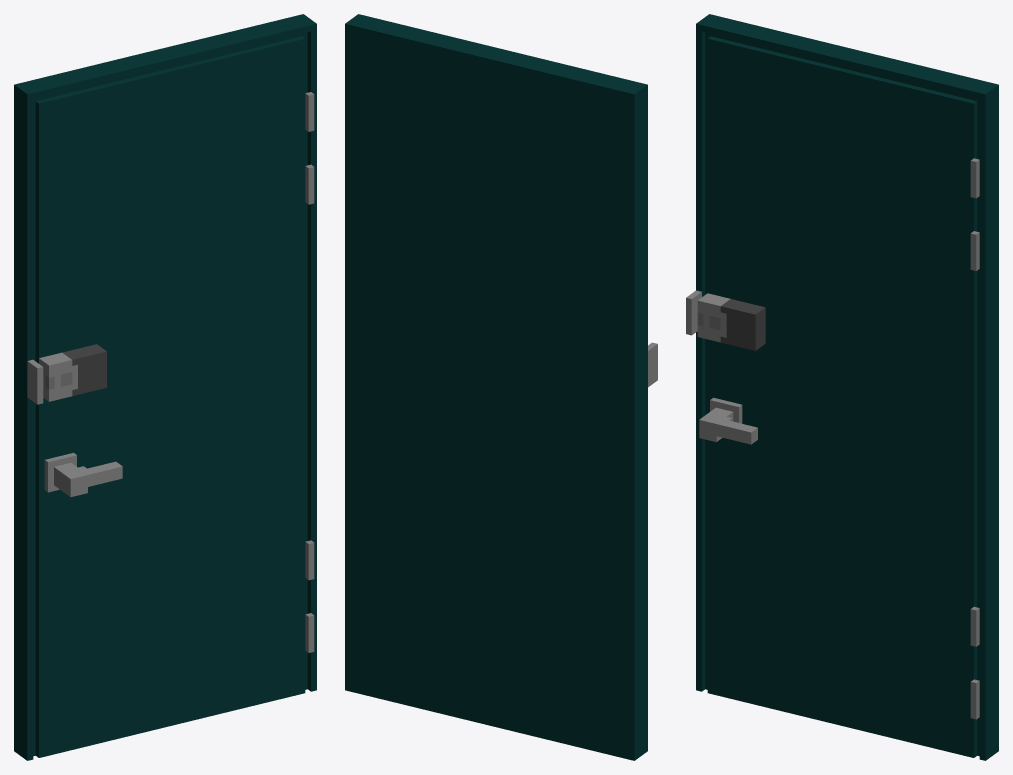
File: door.obj
3 views of the same model, side by side, from view 1: azimuth 30°, elevation 25°; view 2: azimuth 150°, elevation 25°; view 3: azimuth 330°, elevation 25° (orthographic).
Bounding box in the file's own units: 50 × 110 × 10.
Materials: 1 (1 with a texture image).
